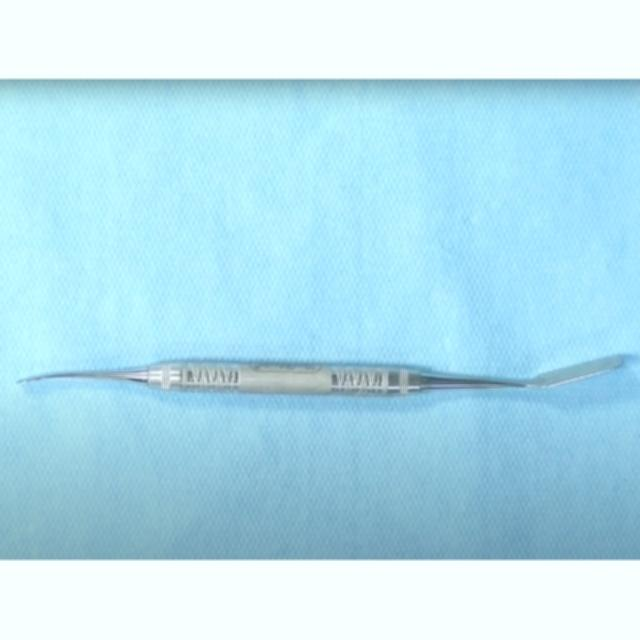elevador: (23, 355, 639, 399)
